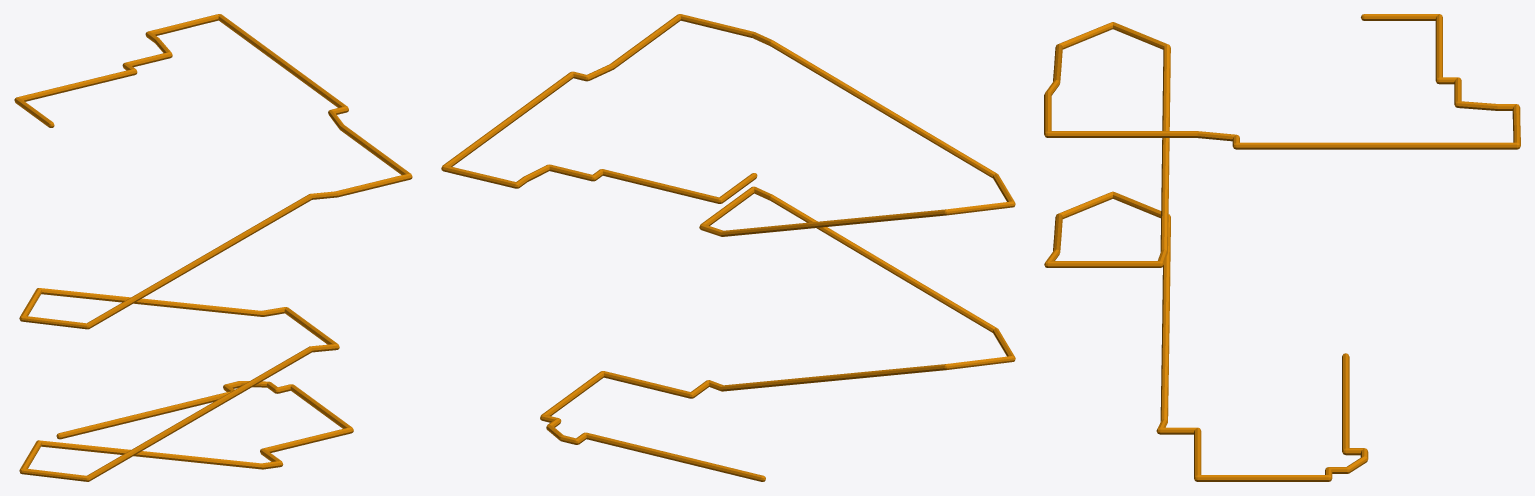
3 renders of one model, left to right at view 1: azimuth 30°, elevation 25°; view 2: azimuth 150°, elevation 25°; view 3: azimuth 270°, elevation 25°, orthographic. The views are drawn at different scales.
Bounding box in the file's own units: 1319 × 1020 × 1274.
